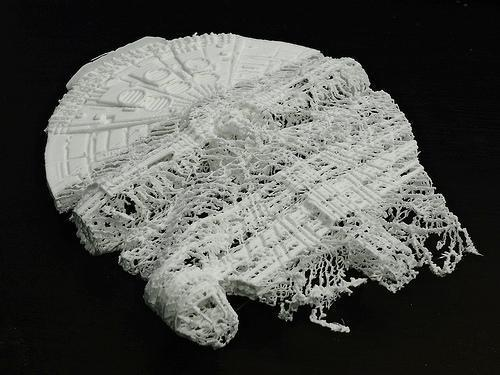Stringing or Oozing: (52, 198, 399, 375), (255, 300, 488, 375)
